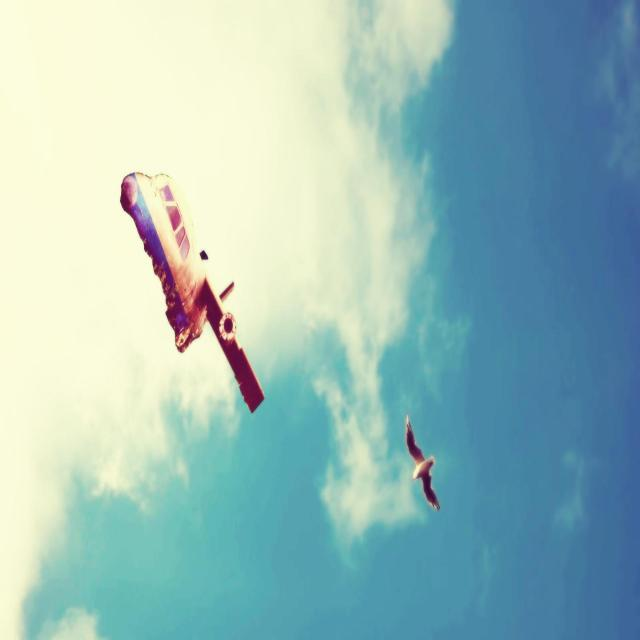airplane: (120, 170, 265, 413)
